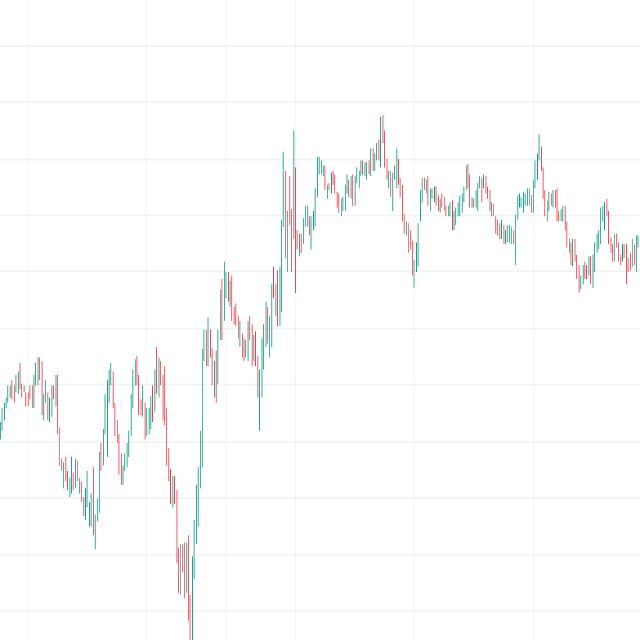Triple-Top: (94, 338, 176, 457)
